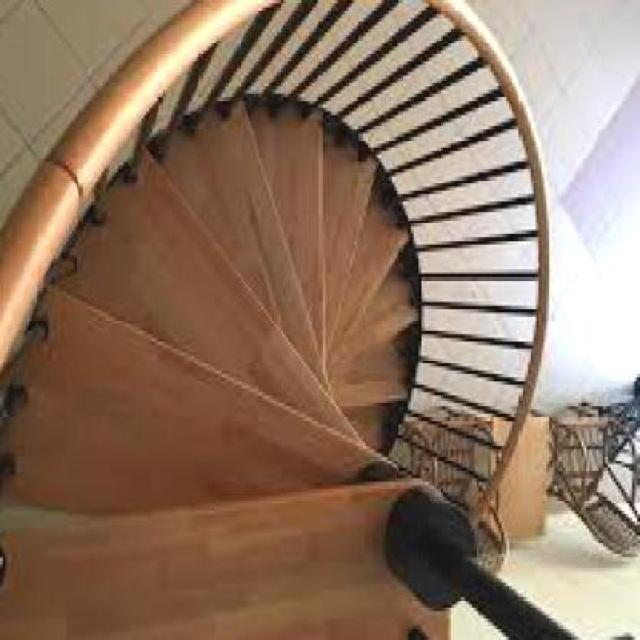stair: (2, 0, 606, 637)
